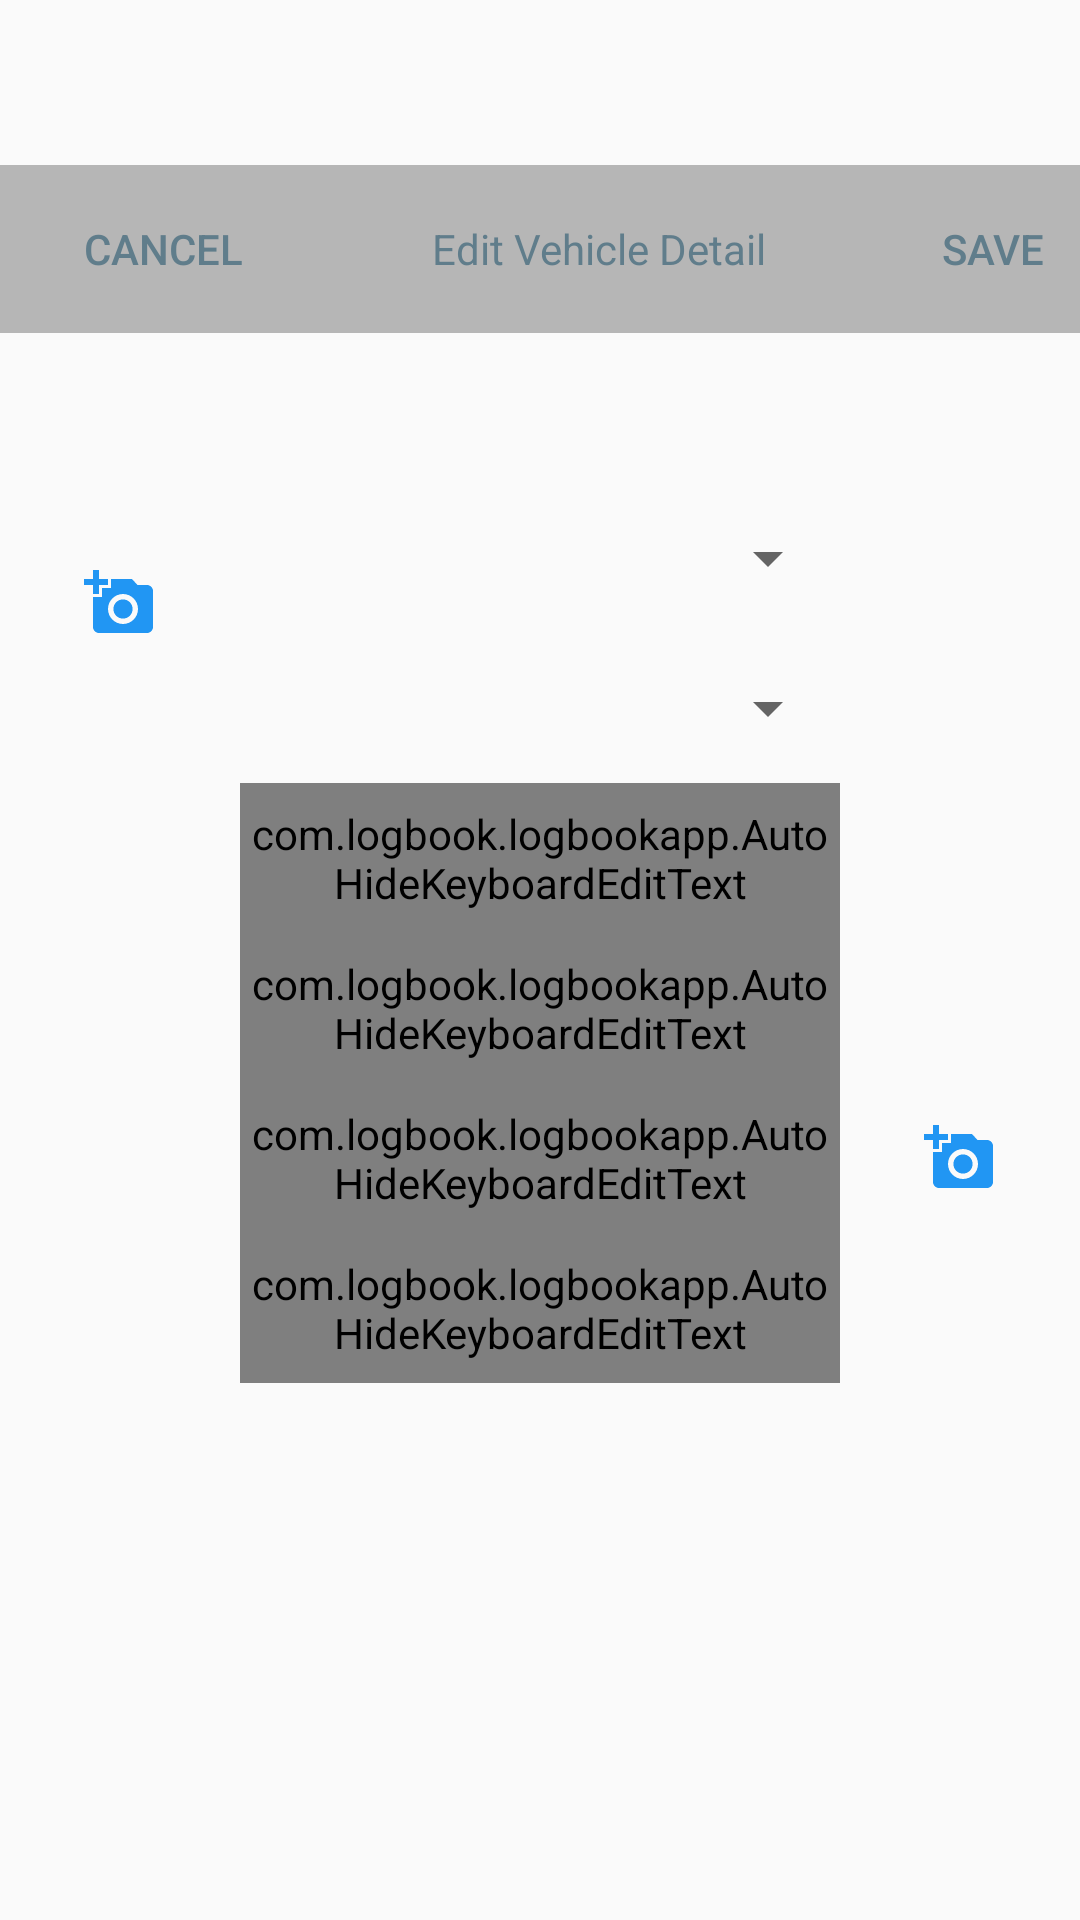

Icons on this 1080px x 1920px Android screen, each with its box as box(x1, y1, x2, y2):
Add an Icon: box(84, 570, 153, 633)
camera: box(924, 1125, 993, 1188)
